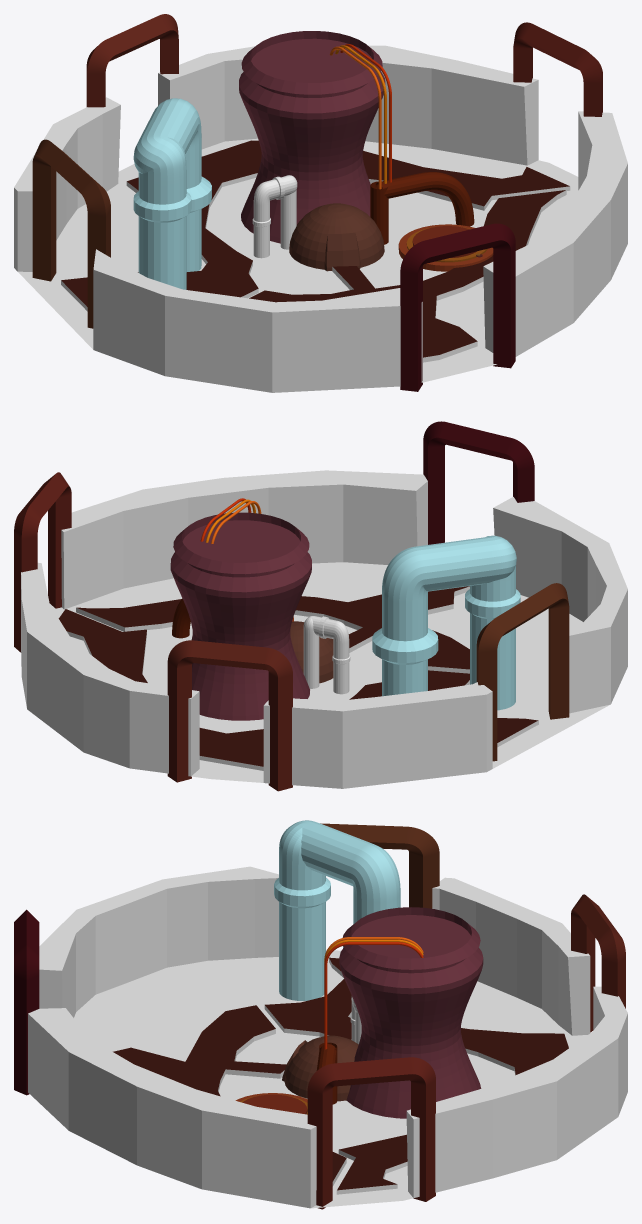
Rendered from LOSTCITY.fbx.
3 views of the same model, one above another, from view 1: azimuth 30°, elevation 25°; view 2: azimuth 150°, elevation 25°; view 3: azimuth 270°, elevation 25° (orthographic). The views are drawn at different scales.
Visible parts, largest first — view 1: Plano, Cilindro, Cubo, Cubo.006, Cubo.008, Esfera, Cubo.009, Cubo.007, Cubo.001, Cubo.002, Cilindro.001, Cubo.003 (+3 smaller); view 2: Plano, Cilindro, Cubo, Cubo.009, Cubo.008, Cubo.006, Cubo.007, Cubo.002, Esfera, Cubo.001; view 3: Plano, Cilindro, Cubo, Cubo.007, Cubo.009, Cubo.006, Cubo.008, Esfera, Cilindro.002, Cubo.005, Cubo.001.
Boxes of the visible parts, x1=… form: Plano: x1=14, y1=45, x2=627, y2=392; Cilindro: x1=239, y1=31, x2=385, y2=243; Cubo: x1=133, y1=98, x2=211, y2=289; Cubo.006: x1=400, y1=223, x2=515, y2=391; Cubo.008: x1=32, y1=139, x2=110, y2=328; Esfera: x1=289, y1=203, x2=384, y2=271; Cubo.009: x1=86, y1=14, x2=178, y2=107; Cubo.007: x1=513, y1=22, x2=602, y2=116; Cubo.001: x1=370, y1=172, x2=474, y2=244; Cubo.002: x1=252, y1=175, x2=297, y2=258; Cilindro.001: x1=398, y1=224, x2=493, y2=271; Cubo.003: x1=329, y1=46, x2=381, y2=189; Plano: x1=21, y1=470, x2=627, y2=788; Cilindro: x1=170, y1=512, x2=311, y2=720; Cubo: x1=372, y1=535, x2=520, y2=710; Cubo.009: x1=167, y1=640, x2=292, y2=791; Cubo.008: x1=476, y1=583, x2=569, y2=761; Cubo.006: x1=423, y1=421, x2=534, y2=544; Cubo.007: x1=14, y1=472, x2=71, y2=652; Cubo.002: x1=303, y1=616, x2=350, y2=694; Esfera: x1=290, y1=621, x2=333, y2=683; Cubo.001: x1=172, y1=598, x2=190, y2=638; Plano: x1=28, y1=866, x2=627, y2=1208; Cilindro: x1=339, y1=907, x2=483, y2=1118; Cubo: x1=274, y1=820, x2=400, y2=1000; Cubo.007: x1=307, y1=1057, x2=435, y2=1209; Cubo.009: x1=571, y1=894, x2=625, y2=1032; Cubo.006: x1=14, y1=909, x2=39, y2=1095; Cubo.008: x1=320, y1=823, x2=439, y2=908; Esfera: x1=282, y1=1035, x2=358, y2=1101; Cilindro.002: x1=242, y1=1094, x2=307, y2=1114; Cubo.005: x1=324, y1=942, x2=423, y2=1049; Cubo.001: x1=316, y1=1042, x2=337, y2=1104.
Bounding box in the file's own units: 28896 × 11059 × 28505.
